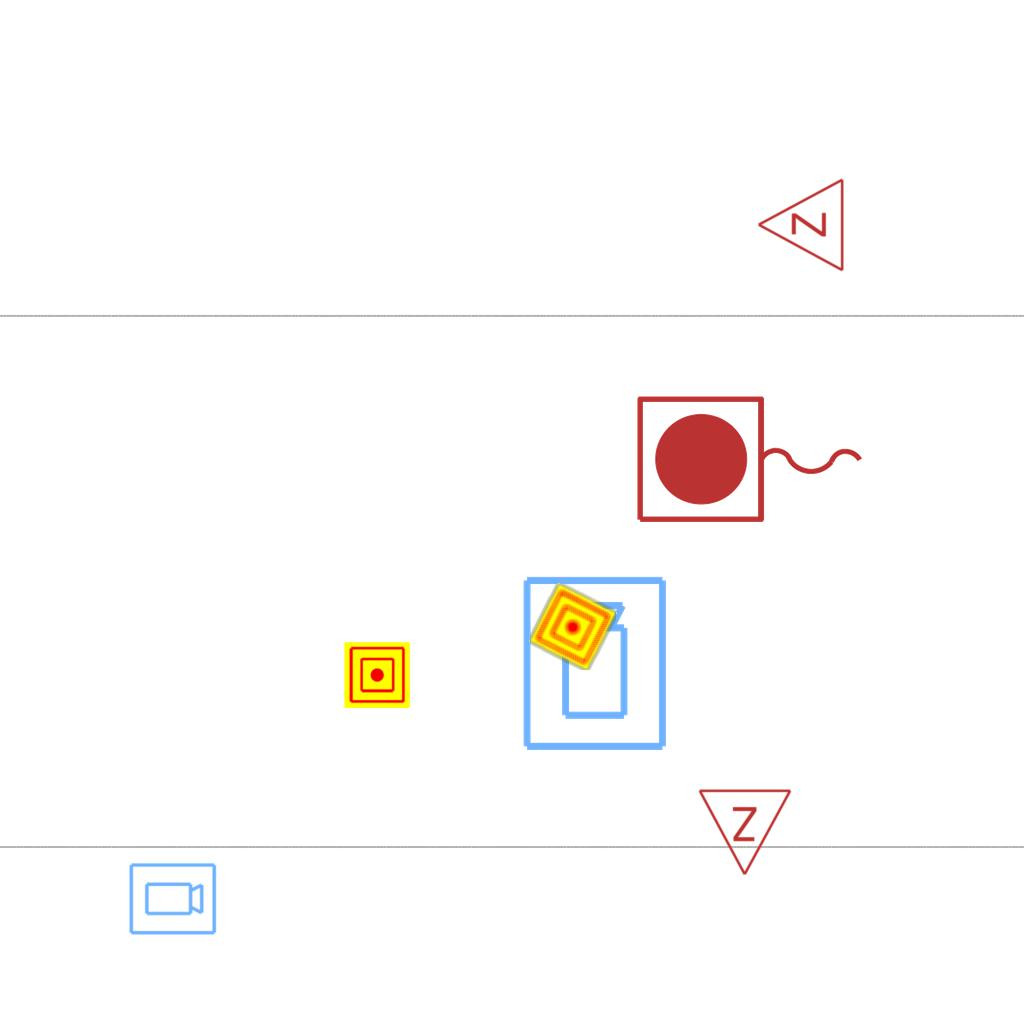KFO_Kamera_mit_Festobjektiv: (519, 573, 673, 755), (127, 861, 218, 938)
NAM-Nichtautomatischer_Melder: (528, 582, 618, 672), (344, 642, 410, 708)
Zimmersignalleuchte: (751, 177, 851, 275), (697, 782, 795, 882)
Zugtaster: (629, 389, 873, 533)
